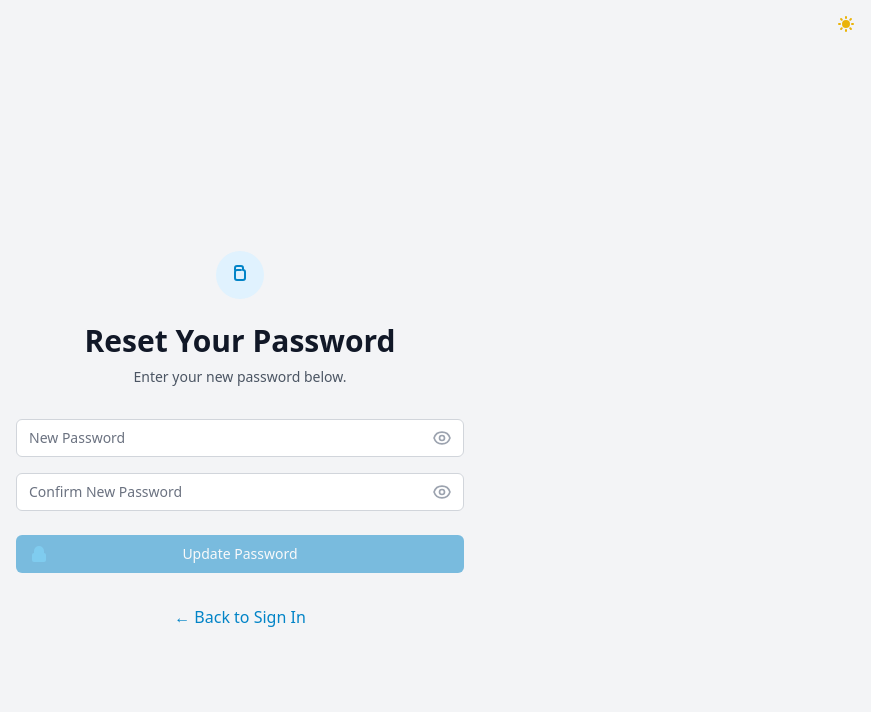
ResetPassword Component › Form Validation › should enable submit button with valid form
In the password field with placeholder "New Password": x=240, y=438 [16,419,464,457], type "StrongPass123!"
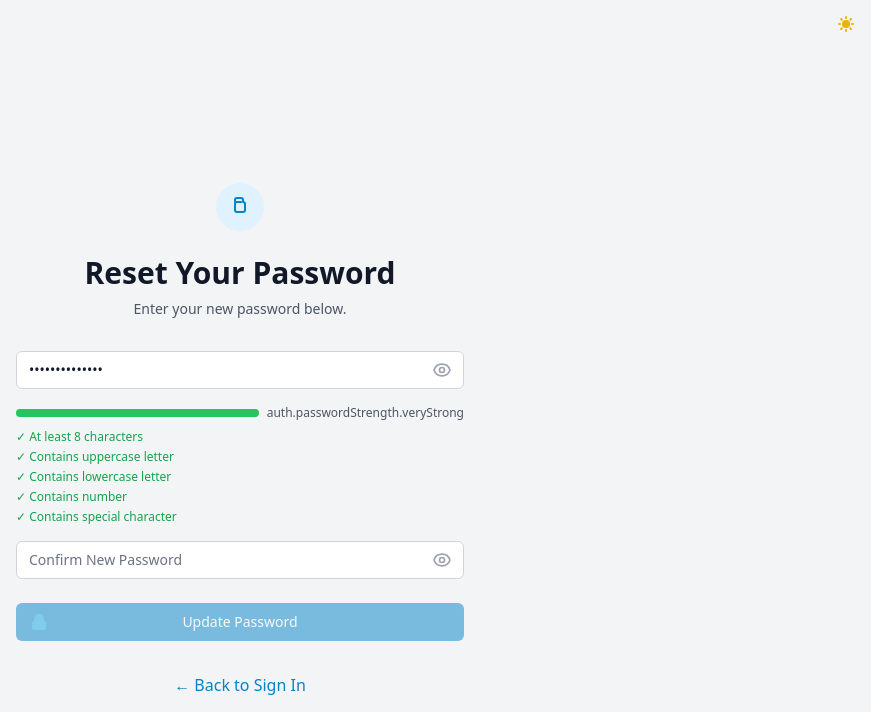
In the password field with id "confirm-password": x=240, y=560 [16,541,464,579], type "StrongPass123!"
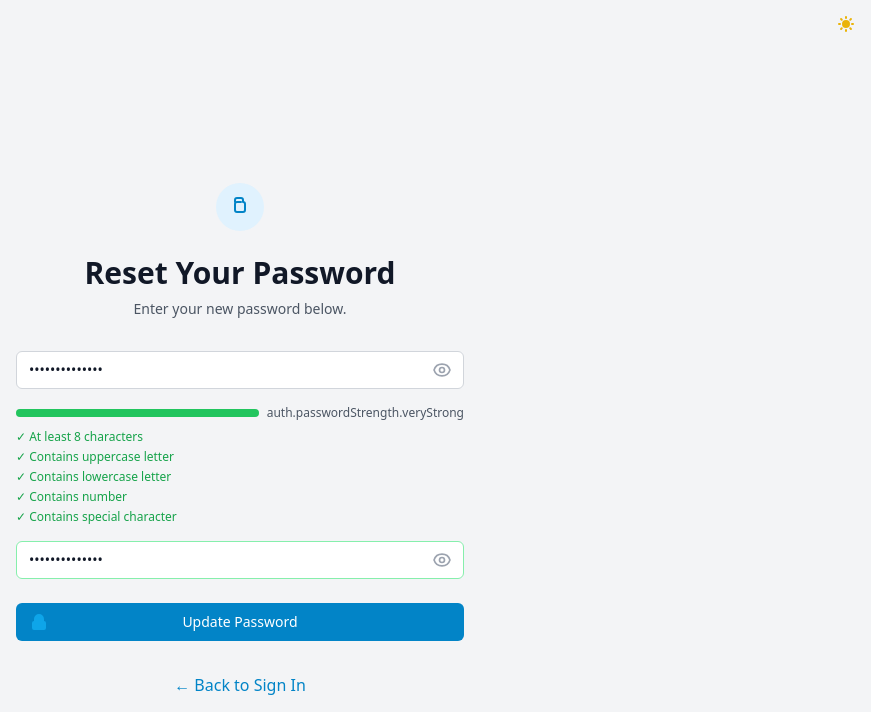
Expected: the submit button is enabled, [16,603,464,641]
